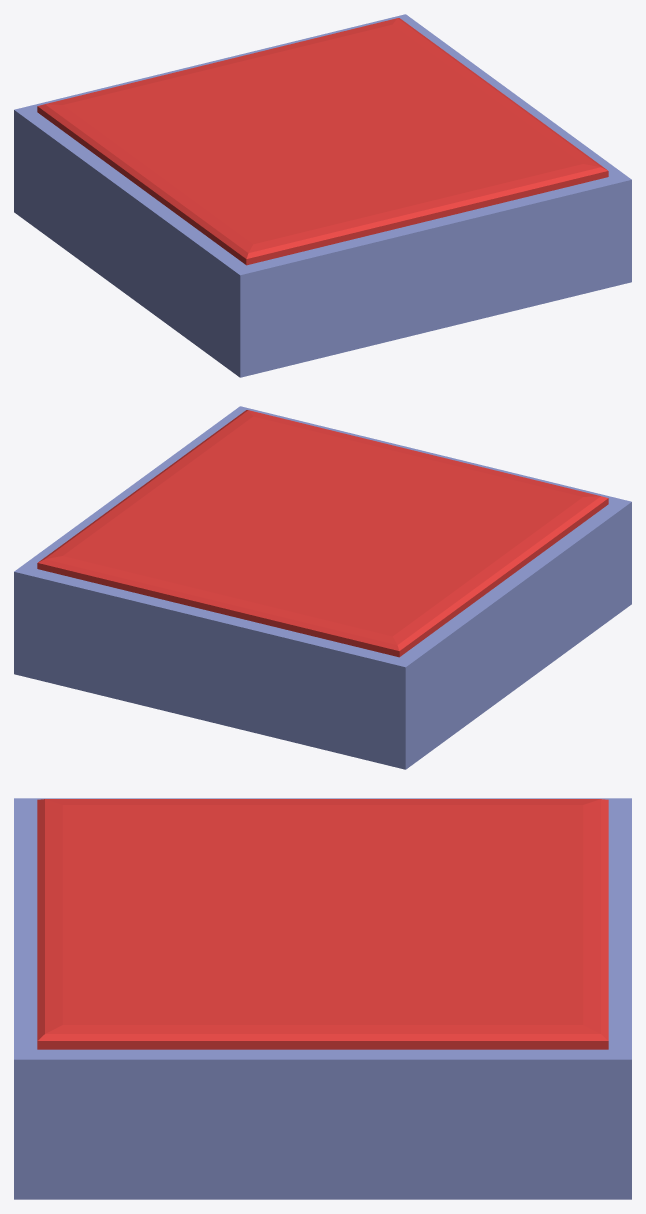
The model's file is singleTile.fbx.
3 renders of one model, top to bottom at view 1: azimuth 30°, elevation 25°; view 2: azimuth 150°, elevation 25°; view 3: azimuth 270°, elevation 25°, orthographic. The views are drawn at different scales.
Visible parts, largest first — view 1: singleTile; view 2: singleTile; view 3: singleTile.
Boxes of the visible parts, bbox=[...] form: singleTile: bbox=[14, 14, 631, 377]; singleTile: bbox=[14, 406, 631, 769]; singleTile: bbox=[14, 798, 631, 1199].
Bounding box in the file's own units: 400 × 110 × 400.
